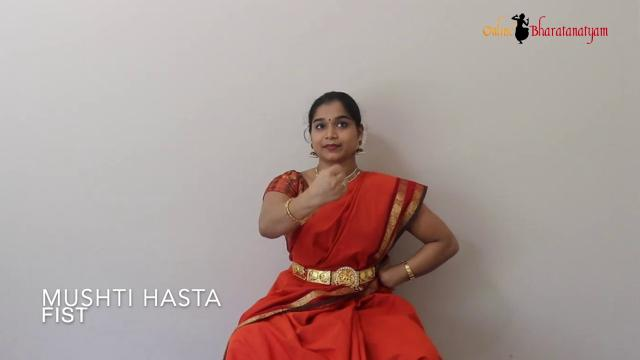mushti: (304, 154, 352, 222)
